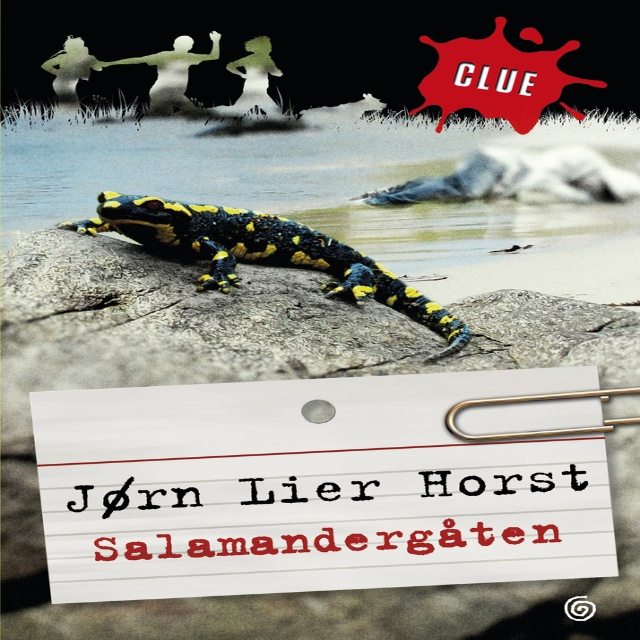Lizard: (67, 183, 496, 369)
